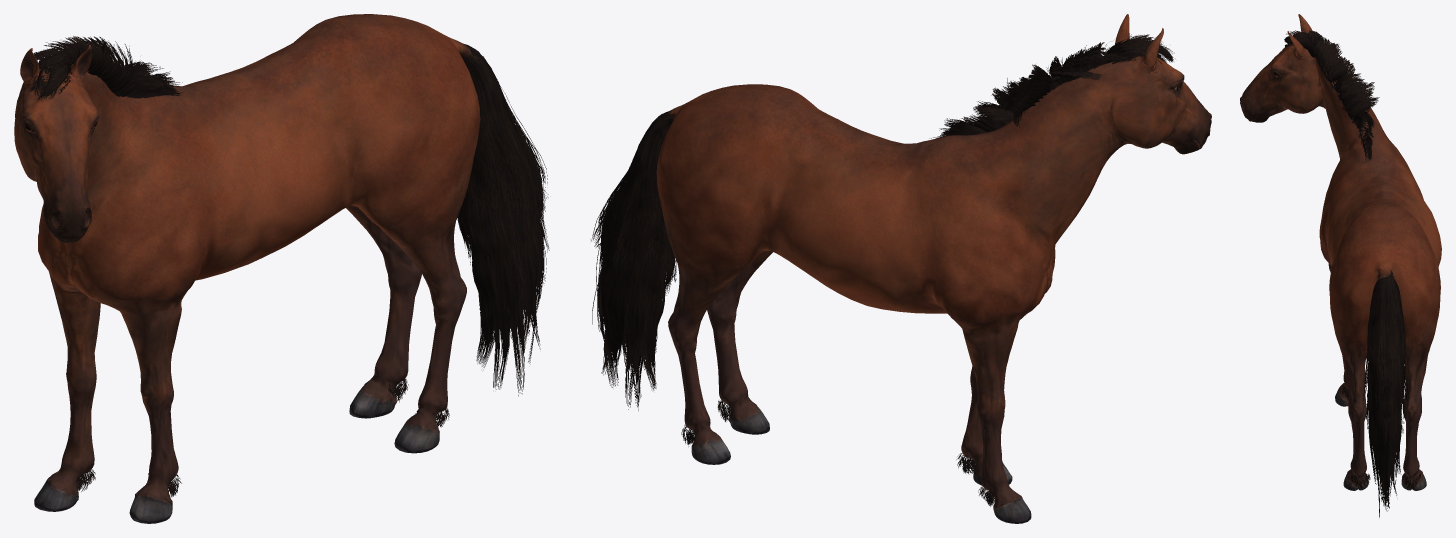
Rendered from horse.fbx.
The picture shows the model from 3 angles, left to right: view 1: azimuth 30°, elevation 25°; view 2: azimuth 150°, elevation 25°; view 3: azimuth 270°, elevation 25°; orthographic projection. The views are drawn at different scales.
Visible parts, largest first — view 1: node_id81, node_id81.001; view 2: node_id81, node_id81.001; view 3: node_id81, node_id81.001.
Part boxes in pixels (left/top/right/bottom): node_id81: left=14, top=14, right=481, bottom=523; node_id81.001: left=30, top=36, right=549, bottom=497; node_id81: left=656, top=14, right=1211, bottom=523; node_id81.001: left=591, top=34, right=1174, bottom=506; node_id81: left=1240, top=14, right=1441, bottom=490; node_id81.001: left=1284, top=30, right=1421, bottom=517.
Bounding box in the file's own units: 51.26 × 43.27 × 23.35.
